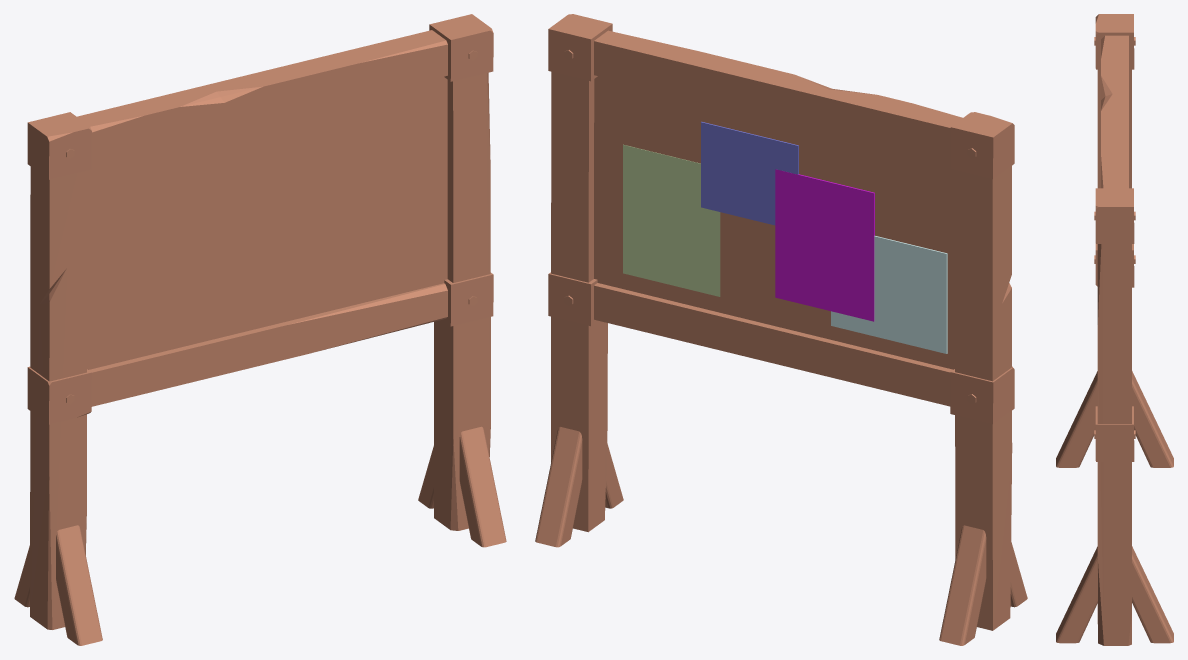
Rendered from board.glb.
3 renders of one model, left to right at view 1: azimuth 30°, elevation 25°; view 2: azimuth 150°, elevation 25°; view 3: azimuth 270°, elevation 25°, orthographic. The views are drawn at different scales.
Parts seen in each view (by area): view 1: NoticeBoard_01_LOD0; view 2: NoticeBoard_01_LOD0, Cube.003, Cube, Cube.002, Cube.001; view 3: NoticeBoard_01_LOD0.
Boxes of the visible parts, x1,y1,x2,y2 form: NoticeBoard_01_LOD0: (14,14,506,645); NoticeBoard_01_LOD0: (535,14,1027,645); Cube.003: (775,169,874,321); Cube: (623,144,720,296); Cube.002: (831,236,947,353); Cube.001: (701,121,798,225); NoticeBoard_01_LOD0: (1056,14,1173,645).
Bounding box in the file's own units: 1.77 × 1.88 × 0.4565.
